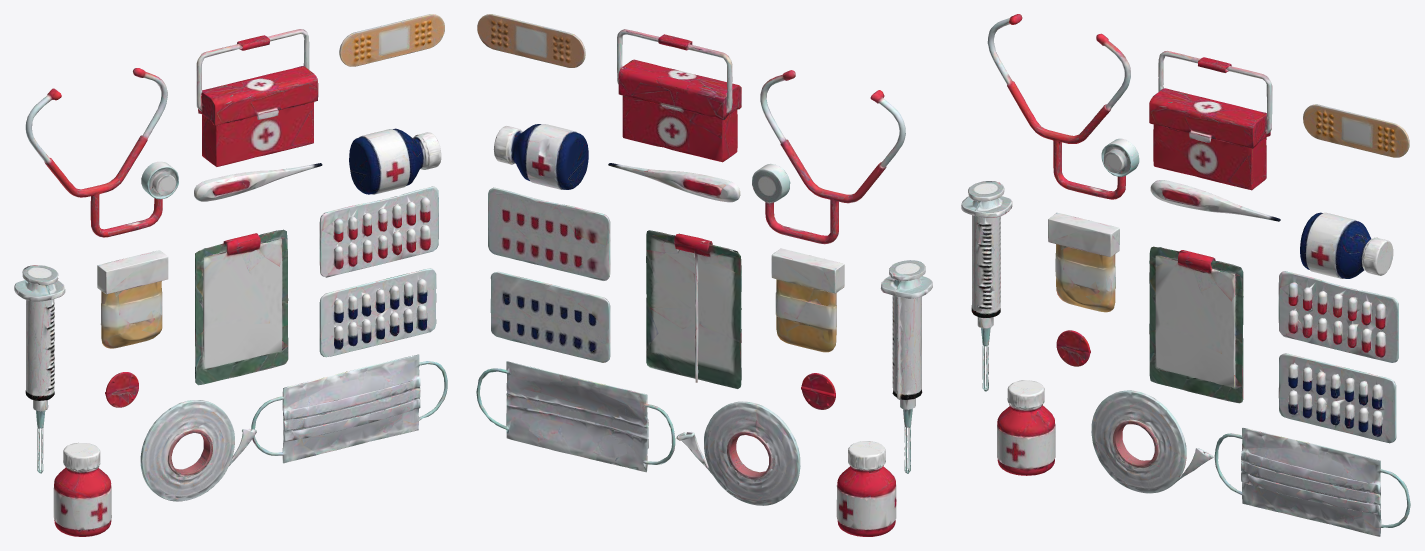
3 renders of one model, left to right at view 1: azimuth 30°, elevation 25°; view 2: azimuth 150°, elevation 25°; view 3: azimuth 330°, elevation 25°, orthographic. The views are drawn at different scales.
Visible parts, largest first — view 1: Mesh 7, Mesh 10, Mesh 9, Mesh 11, Mesh 12, Mesh 6, Mesh 4, Mesh 1, Mesh 2, Mesh 15, Mesh 3, Mesh 13 (+2 smaller); view 2: Mesh 7, Mesh 10, Mesh 9, Mesh 11, Mesh 12, Mesh 6, Mesh 4, Mesh 1, Mesh 2, Mesh 3, Mesh 15, Mesh 13 (+2 smaller); view 3: Mesh 7, Mesh 10, Mesh 9, Mesh 11, Mesh 12, Mesh 6, Mesh 4, Mesh 1, Mesh 2, Mesh 3, Mesh 15, Mesh 13 (+2 smaller).
Boxes of the visible parts, x1,y1,x2,y2 form: Mesh 7: (195, 229, 288, 385); Mesh 10: (251, 354, 447, 463); Mesh 9: (196, 29, 318, 166); Mesh 11: (319, 186, 438, 277); Mesh 12: (319, 268, 436, 357); Mesh 6: (140, 400, 256, 501); Mesh 4: (97, 250, 168, 348); Mesh 1: (14, 265, 65, 473); Mesh 2: (25, 68, 178, 237); Mesh 15: (349, 128, 441, 194); Mesh 3: (53, 442, 111, 536); Mesh 13: (339, 14, 444, 66); Mesh 7: (646, 230, 741, 388); Mesh 10: (476, 361, 675, 472); Mesh 9: (617, 29, 741, 162); Mesh 11: (488, 187, 610, 280); Mesh 12: (490, 271, 610, 362); Mesh 6: (676, 401, 800, 505); Mesh 4: (771, 248, 844, 352); Mesh 1: (880, 260, 932, 473); Mesh 2: (752, 70, 905, 244); Mesh 3: (836, 441, 896, 536); Mesh 15: (493, 124, 588, 189); Mesh 13: (477, 14, 585, 67); Mesh 7: (1149, 246, 1243, 403); Mesh 10: (1214, 428, 1410, 536); Mesh 9: (1149, 51, 1272, 190); Mesh 11: (1278, 271, 1398, 362); Mesh 12: (1278, 353, 1396, 443); Mesh 6: (1091, 390, 1213, 493); Mesh 4: (1048, 212, 1119, 312); Mesh 1: (961, 181, 1012, 391); Mesh 2: (987, 14, 1139, 199); Mesh 3: (997, 380, 1055, 475); Mesh 15: (1300, 212, 1393, 278); Mesh 13: (1303, 104, 1409, 157).
Bounding box in the file's own units: 1.9 × 1.84 × 0.2286.
14 materials, 14 textured.
